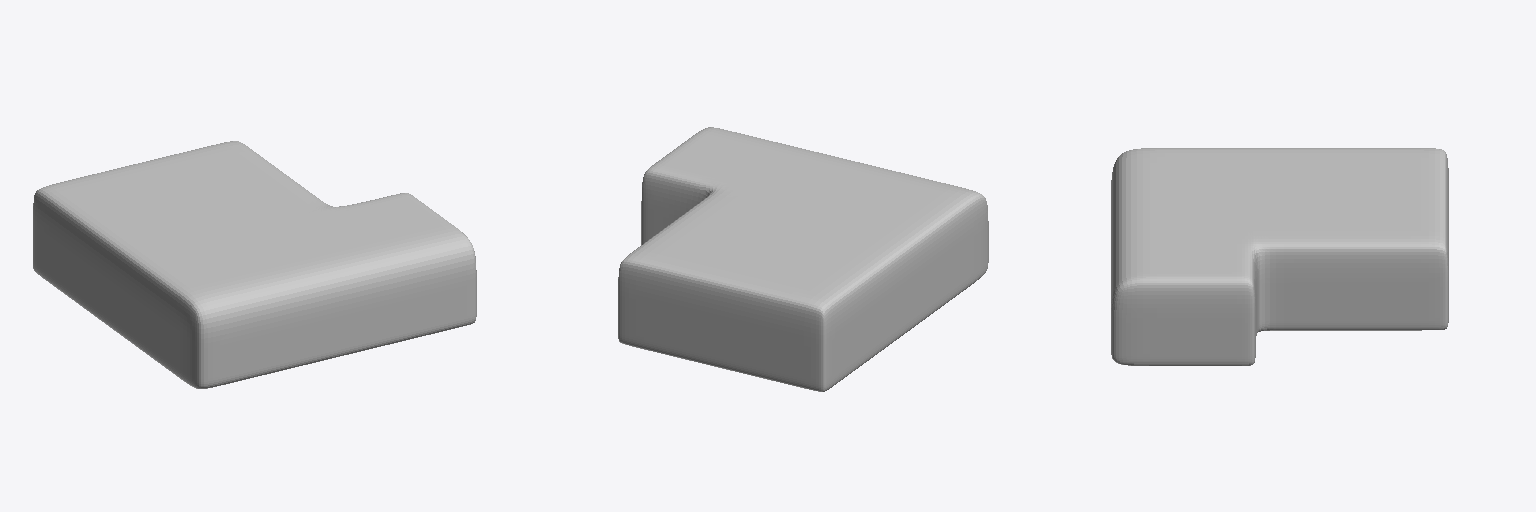
File: sofarightpillow.obj
3 renders of one model, left to right at view 1: azimuth 30°, elevation 25°; view 2: azimuth 150°, elevation 25°; view 3: azimuth 270°, elevation 25°, orthographic.
Parts seen in each view (by area): view 1: Cube.002; view 2: Cube.002; view 3: Cube.002.
Boxes of the visible parts, x1,y1,x2,y2 form: Cube.002: [33, 141, 476, 388]; Cube.002: [618, 127, 988, 391]; Cube.002: [1111, 148, 1448, 365].
Size of the model in its own units: 1.35 by 0.4 by 1.4.